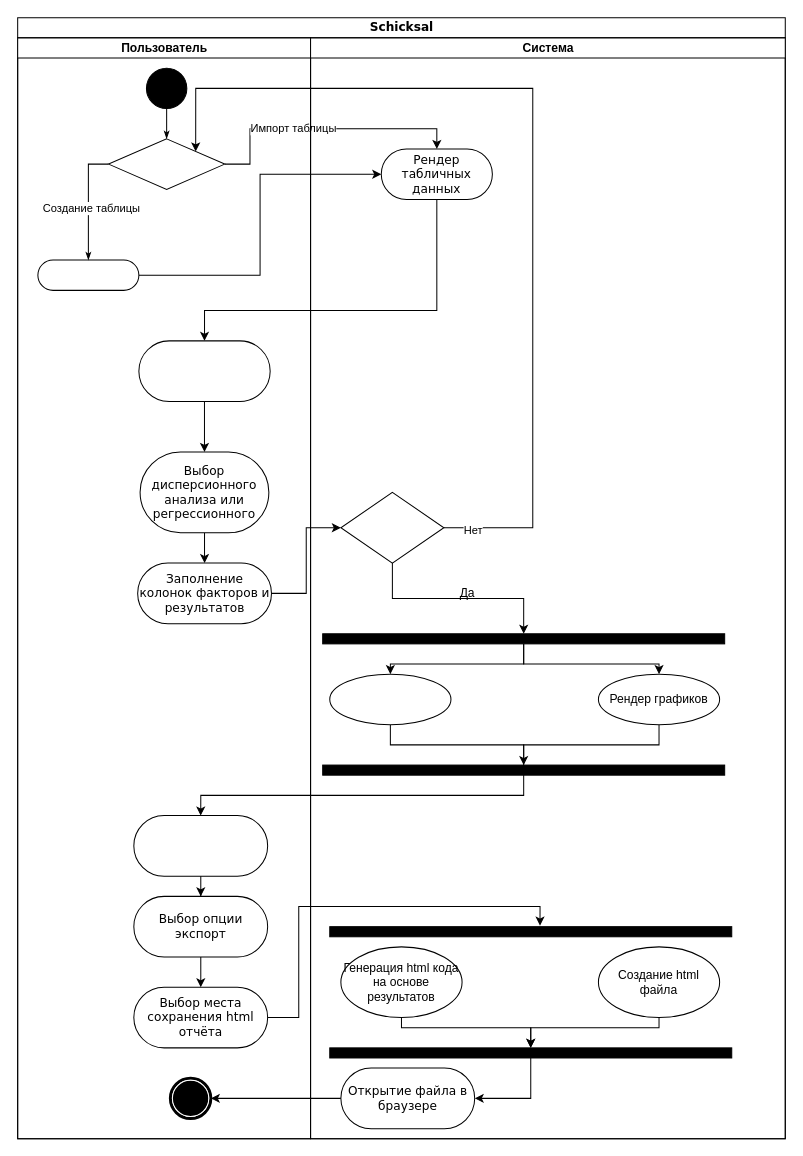
Some shapes in this 803 by 1156 pixel diagram are drawn without their labels. The shapes that lost their labels are listed below. From the top down, each one's centre as x and y in pixels, then its label:
the point at 166,163: Ввод данных
the point at 88,274: Заполнение колонок
the point at 204,370: Просмотр таблицы и редактирование
the point at 392,527: Данные заполнены верно
the point at 390,699: Рендер табличных результатов
the point at 200,845: Просмотр результатов
